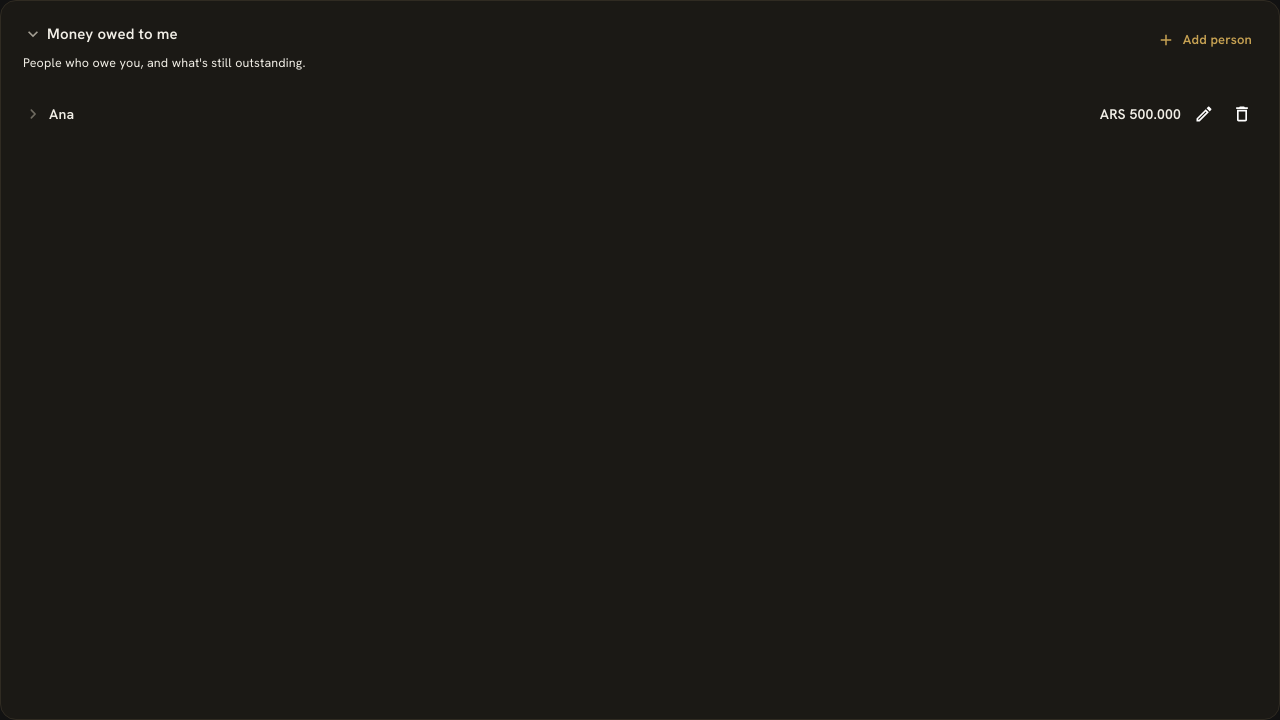
Test: MatchSuggestions + PDF export (task 9) › lists a person's income suggestions, ranked by score
The width and height of the screenshot is (1280, 720).
Expected: the text "Ana" is shown, [49,104,74,124]
Click the button with aria-label "Show Ana's items" at (1140, 114), box [23,104,1181,124]
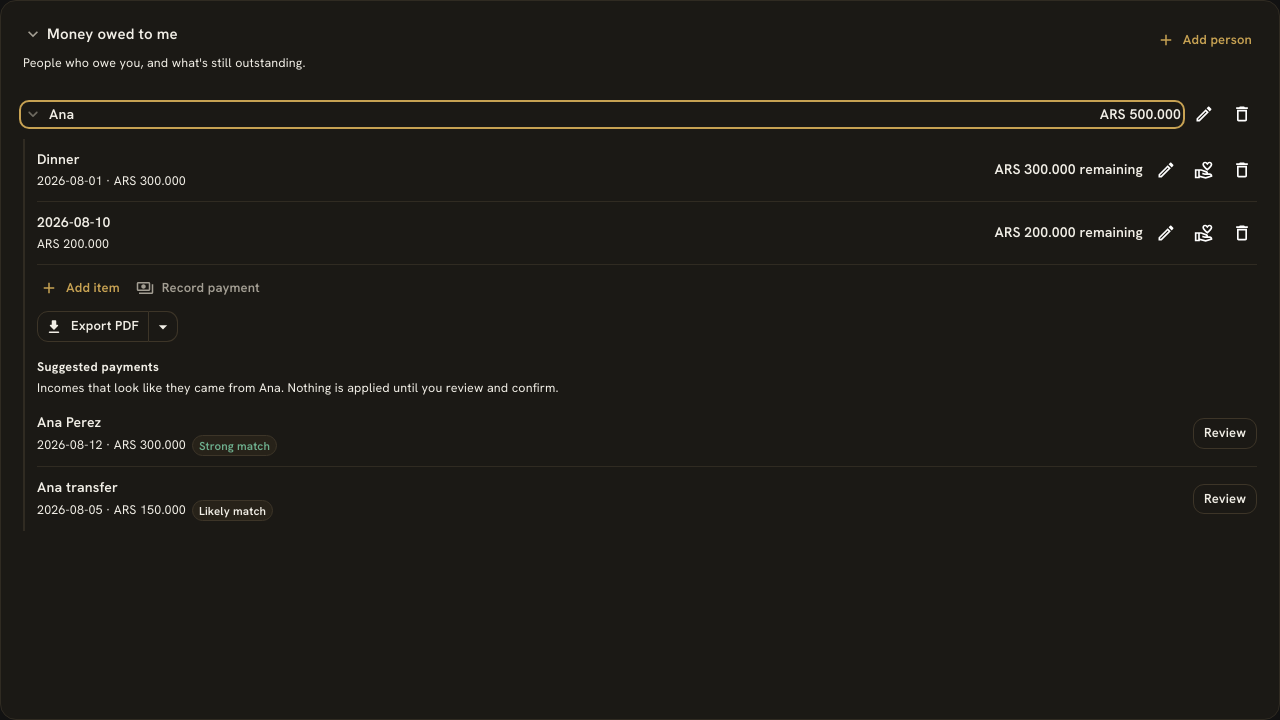
Expected: the text "Dinner" is shown, [37,149,80,170]
Expected: the number of elements with test id "receivable-suggestion" is 2, [37,402,1257,467]; [37,467,1257,531]
Expected: the element with test id "receivable-suggestion" shows "Ana Perez", [37,412,101,430]
